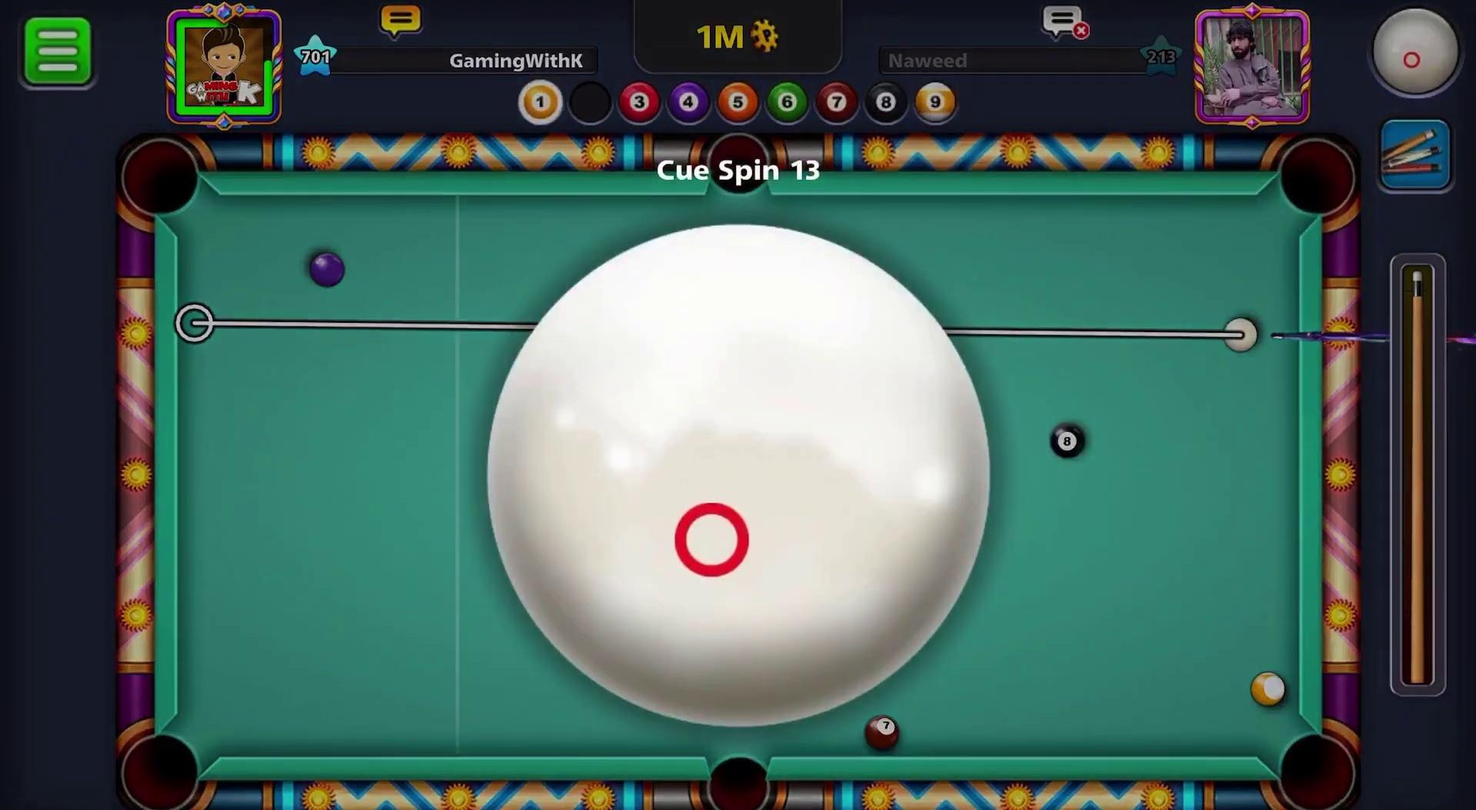Ball: (855, 709, 910, 756), (303, 251, 351, 296), (1048, 416, 1090, 462), (1248, 666, 1288, 706)
Force: (1388, 247, 1453, 699)
Guideline: (175, 302, 538, 344), (945, 317, 1258, 352)
Hole: (110, 124, 215, 233), (1267, 128, 1364, 229), (1264, 713, 1363, 809), (110, 716, 212, 809), (689, 122, 789, 212), (680, 742, 791, 809)
Play_Area: (178, 193, 1306, 760)
Spin: (478, 221, 995, 736), (1344, 0, 1475, 114)
White: (1224, 309, 1267, 358)
